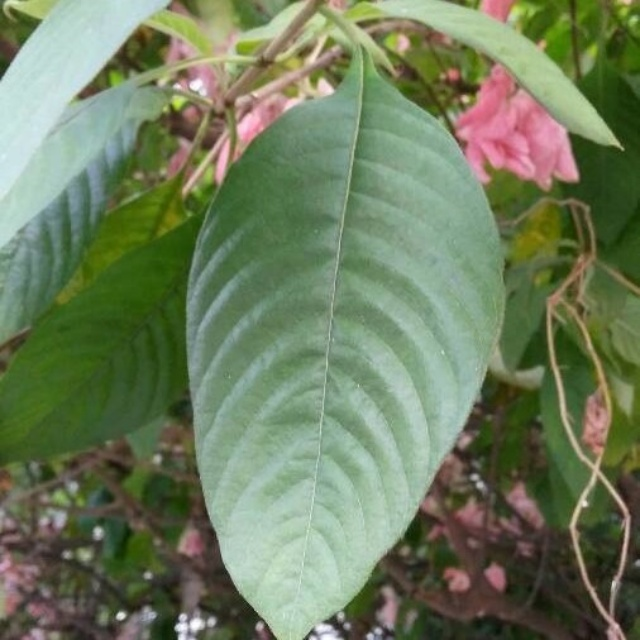obstacle: (181, 44, 527, 612)
